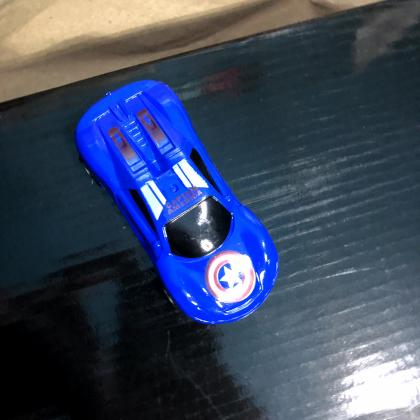Car: (75, 81, 280, 326)
